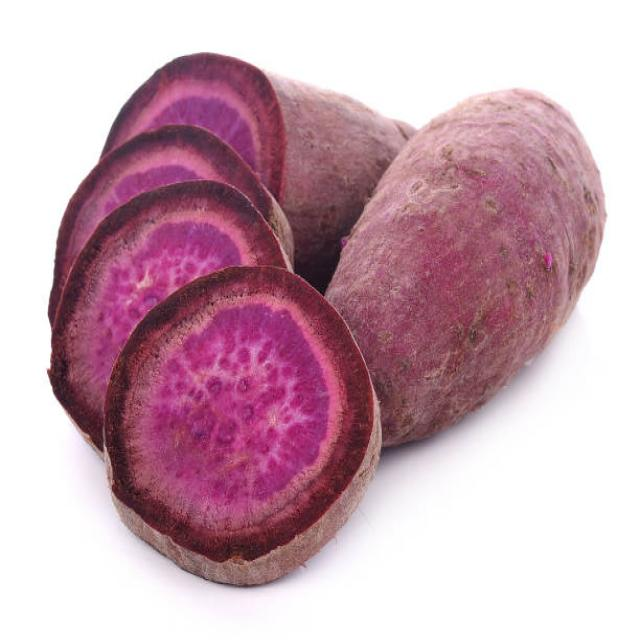sweet potato: (100, 263, 373, 573), (383, 81, 612, 427)
